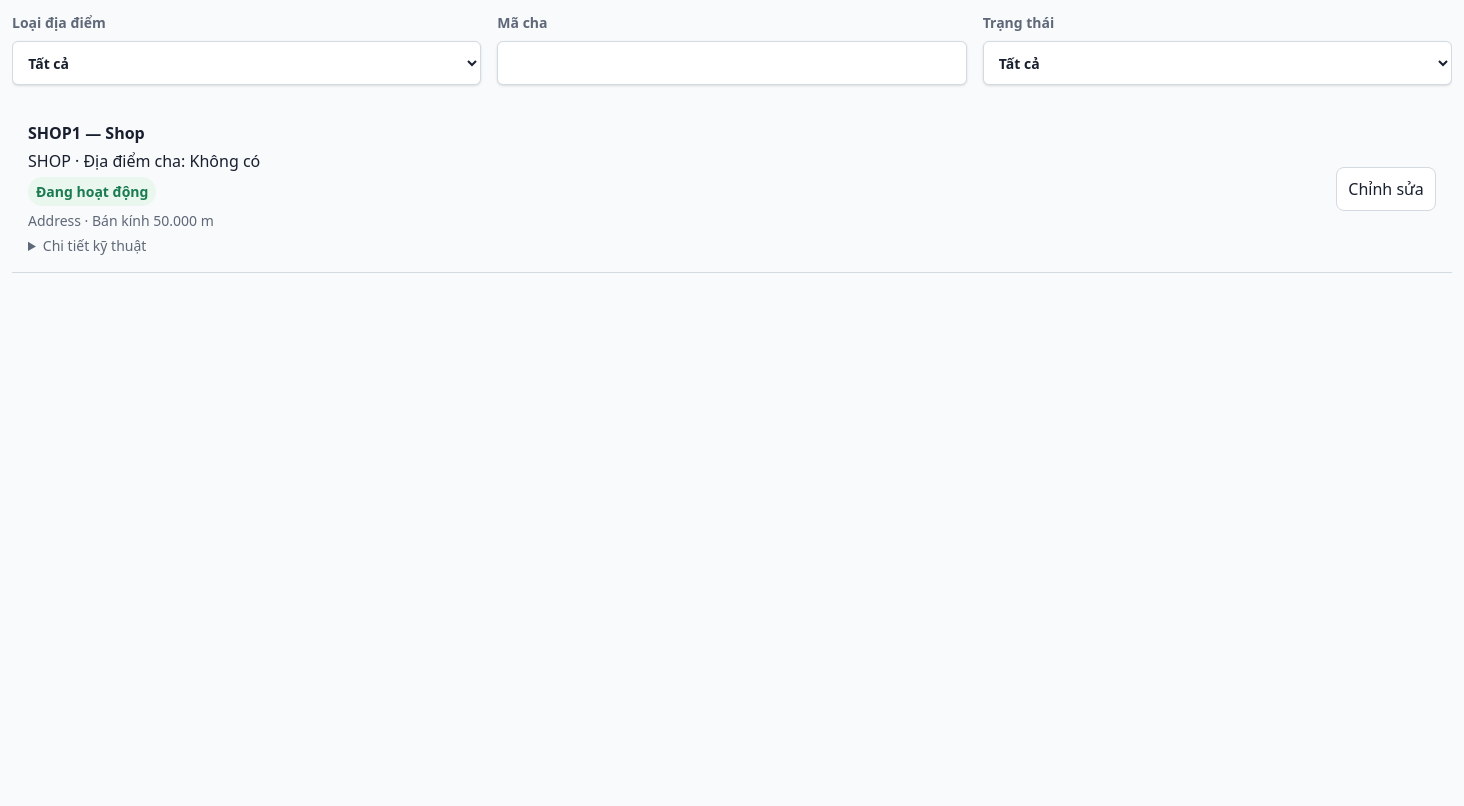
Test: LocationDirectory › lets a Manager edit mutable fields and displays warning-success
This screenshot has width=1464, height=806.
Click the button with aria-label "Chỉnh sửa SHOP1".
click(1386, 188)  # box [1336, 166, 1436, 210]
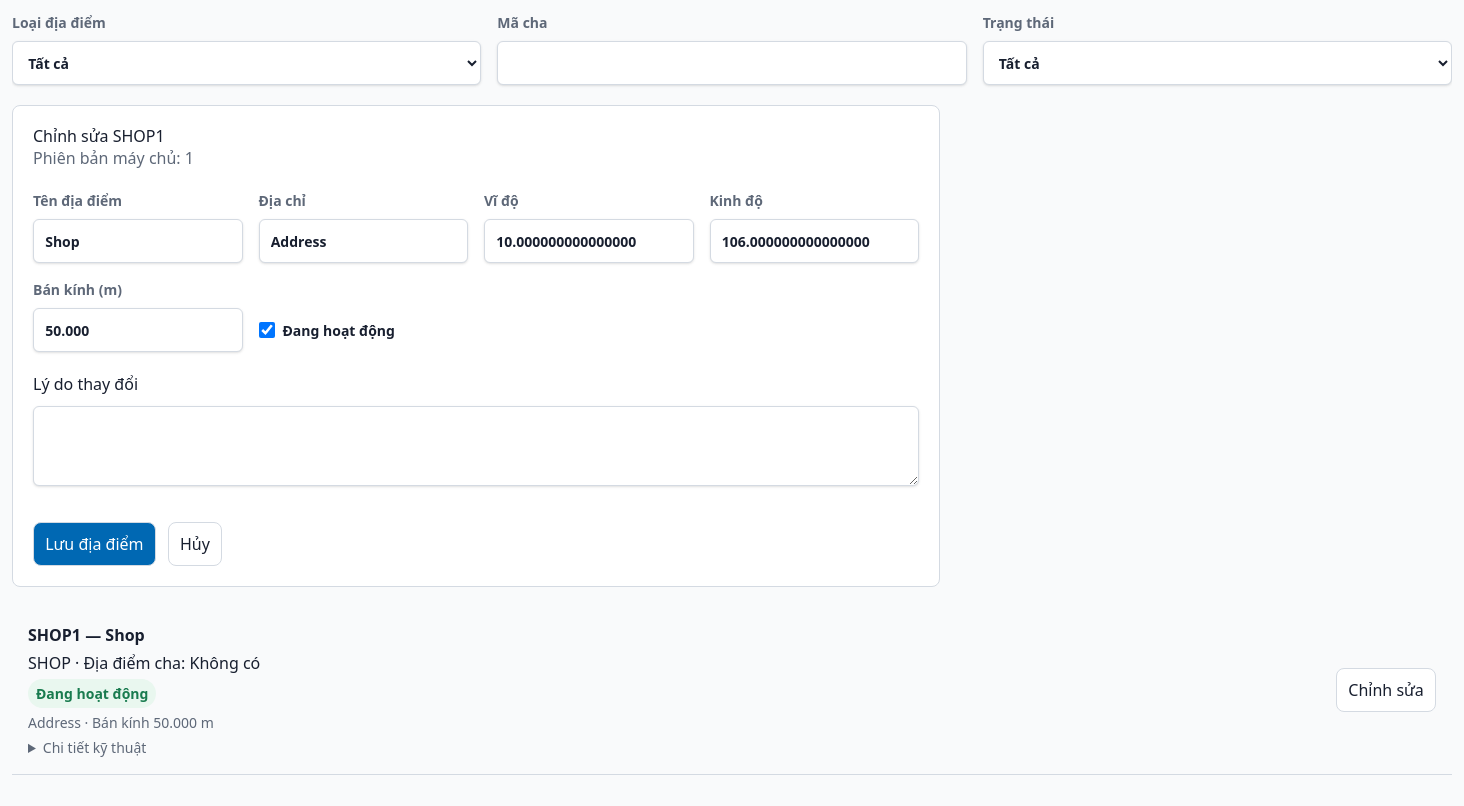
Replace the text in the field labelled "Tên địa điểm" with "Shop mới" at (138, 241), box [33, 219, 242, 263]
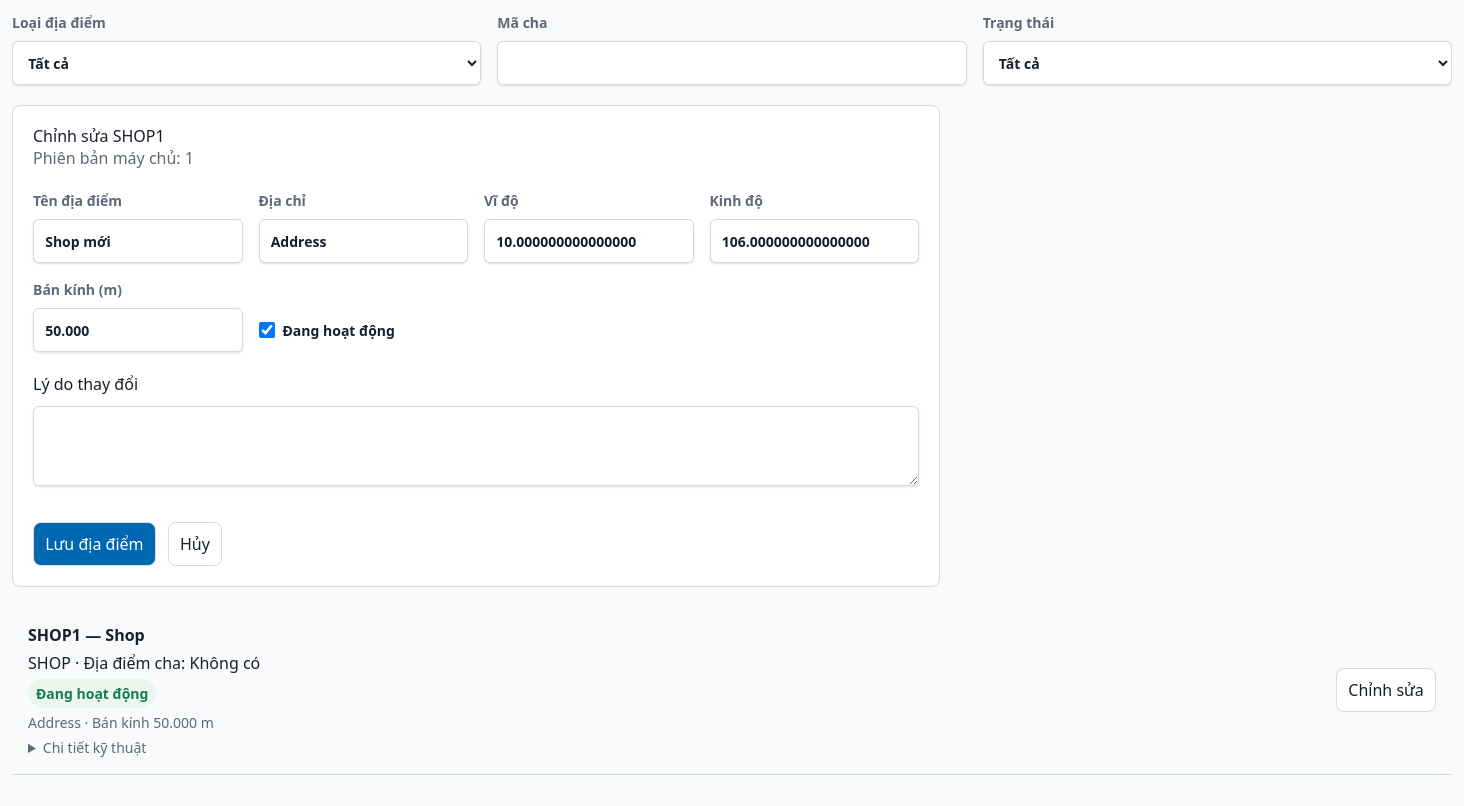
Type "Chuẩn hóa tên" into the text box labelled "Lý do thay đổi".
click(476, 446); type("Chuẩn hóa tên")  # box [33, 406, 919, 486]
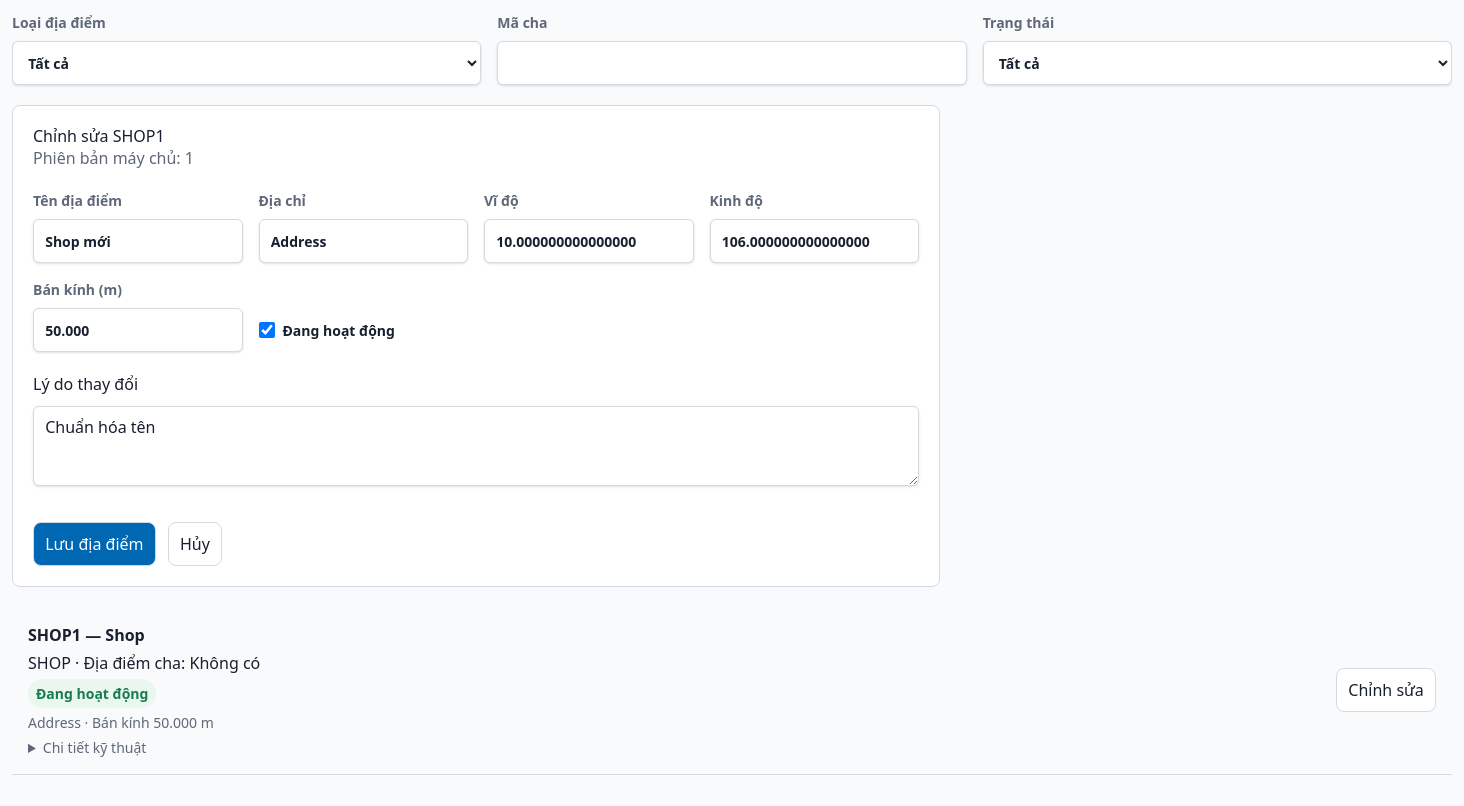
Click the button "Lưu địa điểm".
click(94, 544)  # box [33, 522, 156, 566]
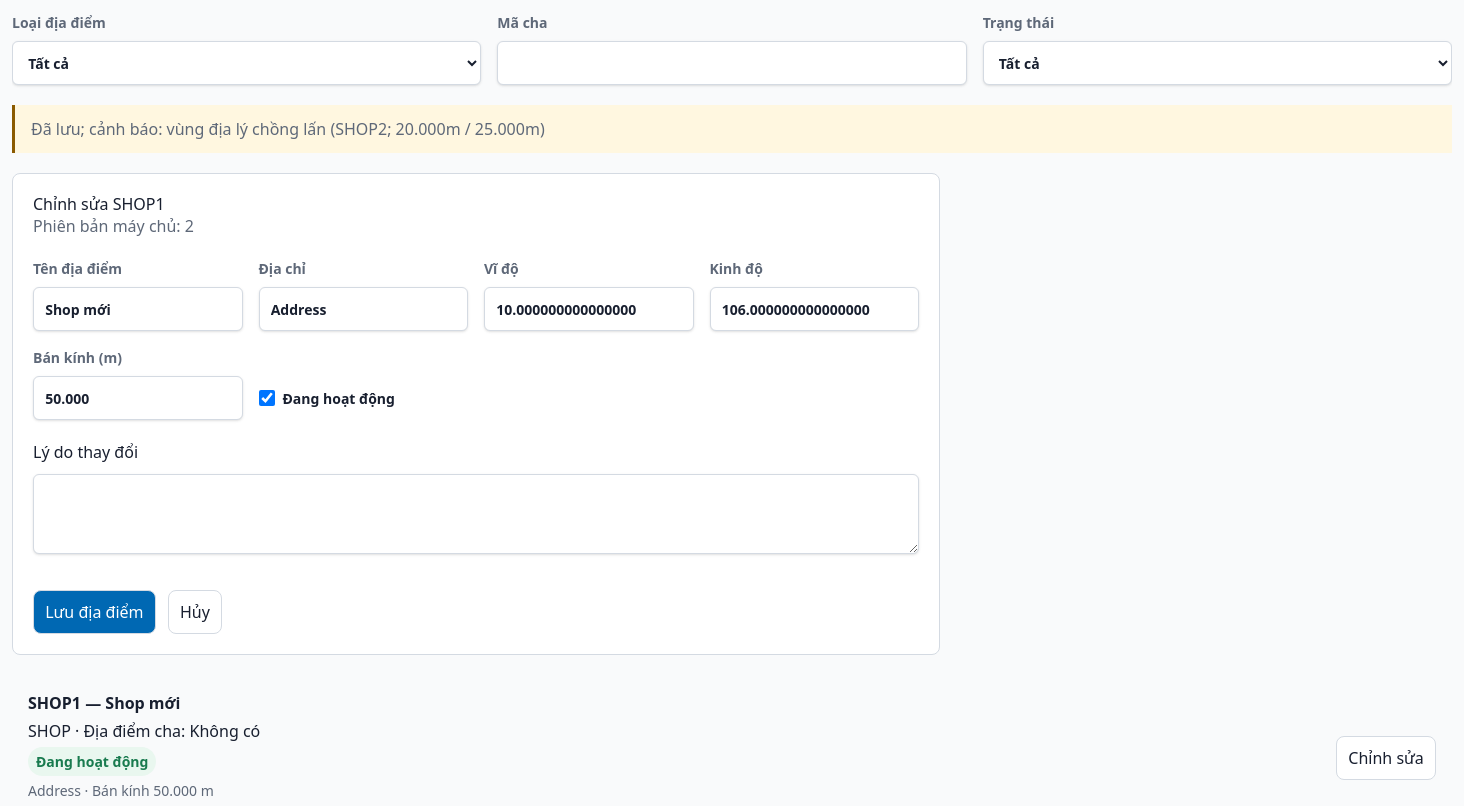
Expected: the message shows "vùng địa lý chồng lấn", [31, 118, 545, 140]
Expected: the message shows "SHOP2", [31, 118, 545, 140]
Expected: the message shows "20.000m / 25.000m", [31, 118, 545, 140]
